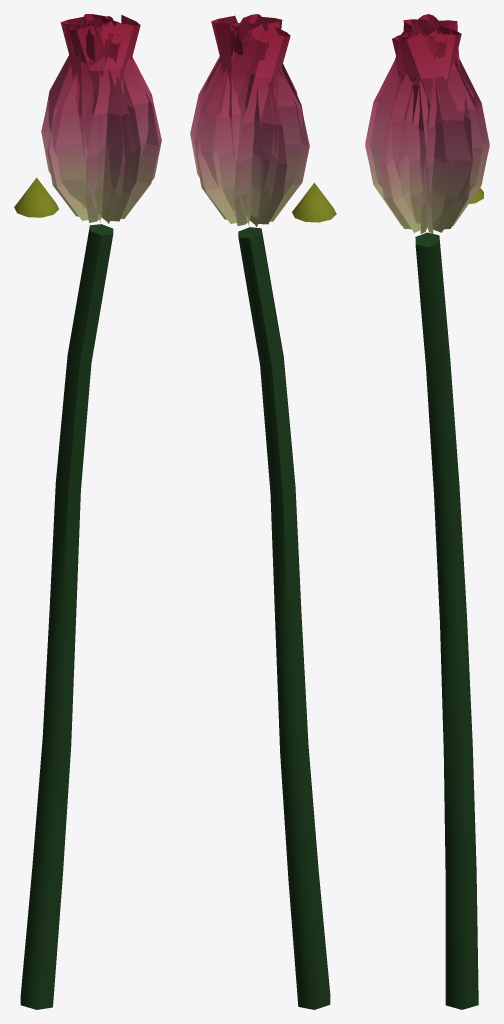
The model's file is lotus-bud.glb.
3 views of the same model, side by side, from view 1: azimuth 30°, elevation 25°; view 2: azimuth 210°, elevation 25°; view 3: azimuth 270°, elevation 25° (orthographic). The views are drawn at different scales.
Parts seen in each view (by area): view 1: lotus-bud-stem, lotus-bud-petals, lotus-bud-core; view 2: lotus-bud-stem, lotus-bud-petals, lotus-bud-core; view 3: lotus-bud-stem, lotus-bud-petals.
Part boxes in pixels (box(x1,y1,x2,y2)): lotus-bud-stem: box(20, 224, 113, 1009); lotus-bud-petals: box(41, 14, 161, 223); lotus-bud-core: box(14, 177, 59, 217); lotus-bud-stem: box(238, 227, 330, 1009); lotus-bud-petals: box(190, 14, 309, 226); lotus-bud-core: box(292, 182, 336, 222); lotus-bud-stem: box(415, 232, 478, 1009); lotus-bud-petals: box(365, 14, 489, 233).
Size of the model in its own units: 0.1225 by 0.9578 by 0.108.
